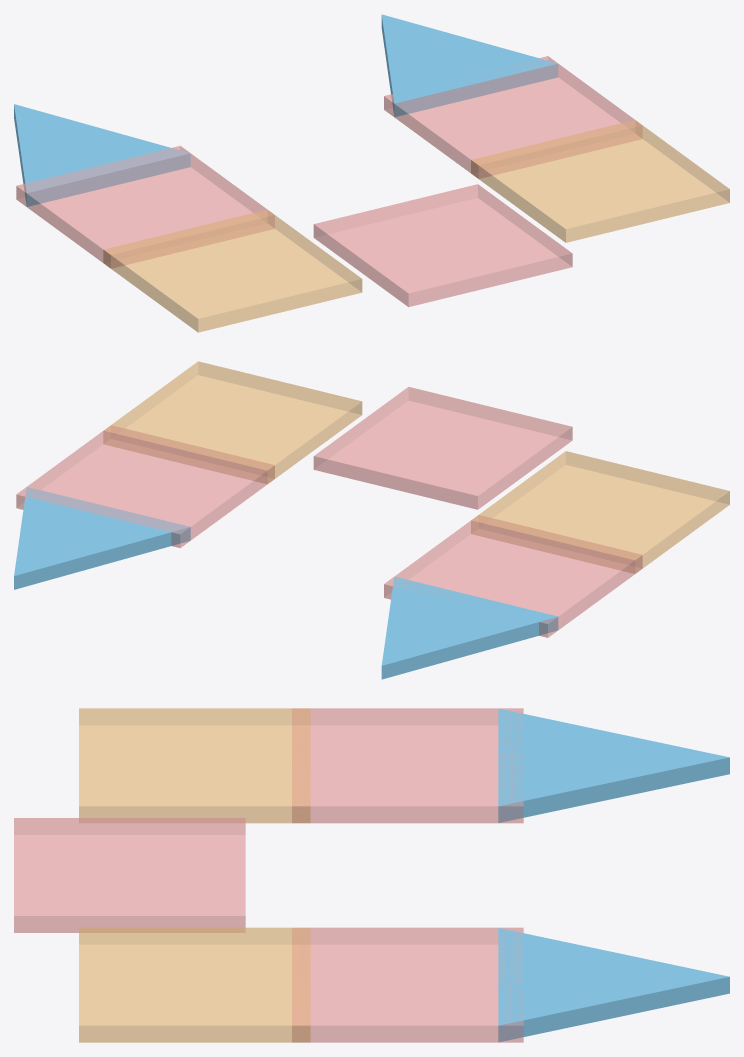
File: castello_step6.glb
The picture shows the model from 3 angles, top to bottom: view 1: azimuth 30°, elevation 25°; view 2: azimuth 150°, elevation 25°; view 3: azimuth 270°, elevation 25°; orthographic projection. The views are drawn at different scales.
Parts seen in each view (by area): view 1: quadrato_grande, quadrato_piccolo, quadrato_piccolo.001, quadrato_grande.001, quadrato_grande.002, triangolo_isoscele_grande.001, triangolo_isoscele_grande; view 2: quadrato_grande, quadrato_piccolo.001, quadrato_piccolo, quadrato_grande.002, quadrato_grande.001, triangolo_isoscele_grande, triangolo_isoscele_grande.001; view 3: quadrato_piccolo.001, quadrato_piccolo, quadrato_grande, quadrato_grande.002, quadrato_grande.001, triangolo_isoscele_grande, triangolo_isoscele_grande.001.
Boxes of the visible parts, x1,y1,x2,y2 form: quadrato_grande: (313, 184, 572, 307); quadrato_piccolo: (103, 209, 362, 332); quadrato_piccolo.001: (471, 120, 729, 242); quadrato_grande.001: (16, 145, 274, 268); quadrato_grande.002: (384, 56, 642, 178); triangolo_isoscele_grande.001: (381, 14, 558, 116); triangolo_isoscele_grande: (14, 104, 190, 206); quadrato_grande: (313, 386, 572, 509); quadrato_piccolo.001: (103, 361, 362, 483); quadrato_piccolo: (471, 451, 729, 573); quadrato_grande.002: (16, 425, 274, 548); quadrato_grande.001: (384, 515, 642, 637); triangolo_isoscele_grande: (381, 576, 558, 679); triangolo_isoscele_grande.001: (14, 487, 190, 589); quadrato_piccolo.001: (79, 927, 310, 1042); quadrato_piccolo: (79, 708, 310, 823); quadrato_grande: (14, 818, 245, 932); quadrato_grande.002: (292, 927, 523, 1042); quadrato_grande.001: (292, 708, 523, 823); triangolo_isoscele_grande: (498, 708, 729, 822); triangolo_isoscele_grande.001: (498, 928, 729, 1042).
Bounding box in the file's own units: 3.24 × 0.08 × 3.09.
